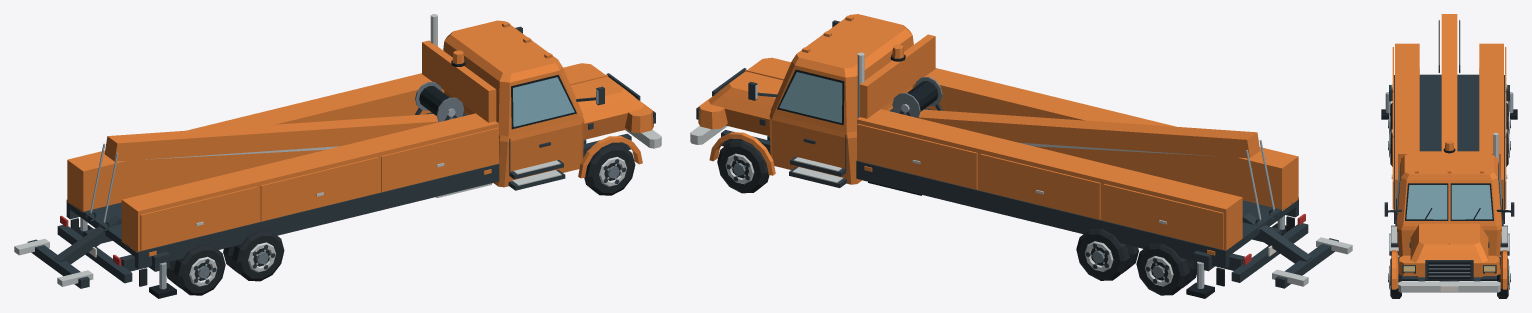
Rendered from b15_heavy_recovery_wrecker.glb.
3 renders of one model, left to right at view 1: azimuth 30°, elevation 25°; view 2: azimuth 150°, elevation 25°; view 3: azimuth 270°, elevation 25°, orthographic. The views are drawn at different scales.
Parts seen in each view (by area): view 1: b15_heavy_recovery_wrecker; view 2: b15_heavy_recovery_wrecker; view 3: b15_heavy_recovery_wrecker.
Part boxes in pixels (bbox=[...]): b15_heavy_recovery_wrecker: bbox=[14, 14, 661, 298]; b15_heavy_recovery_wrecker: bbox=[690, 14, 1352, 298]; b15_heavy_recovery_wrecker: bbox=[1381, 14, 1517, 298].
Size of the model in its own units: 11.91 by 3.03 by 3.08.
